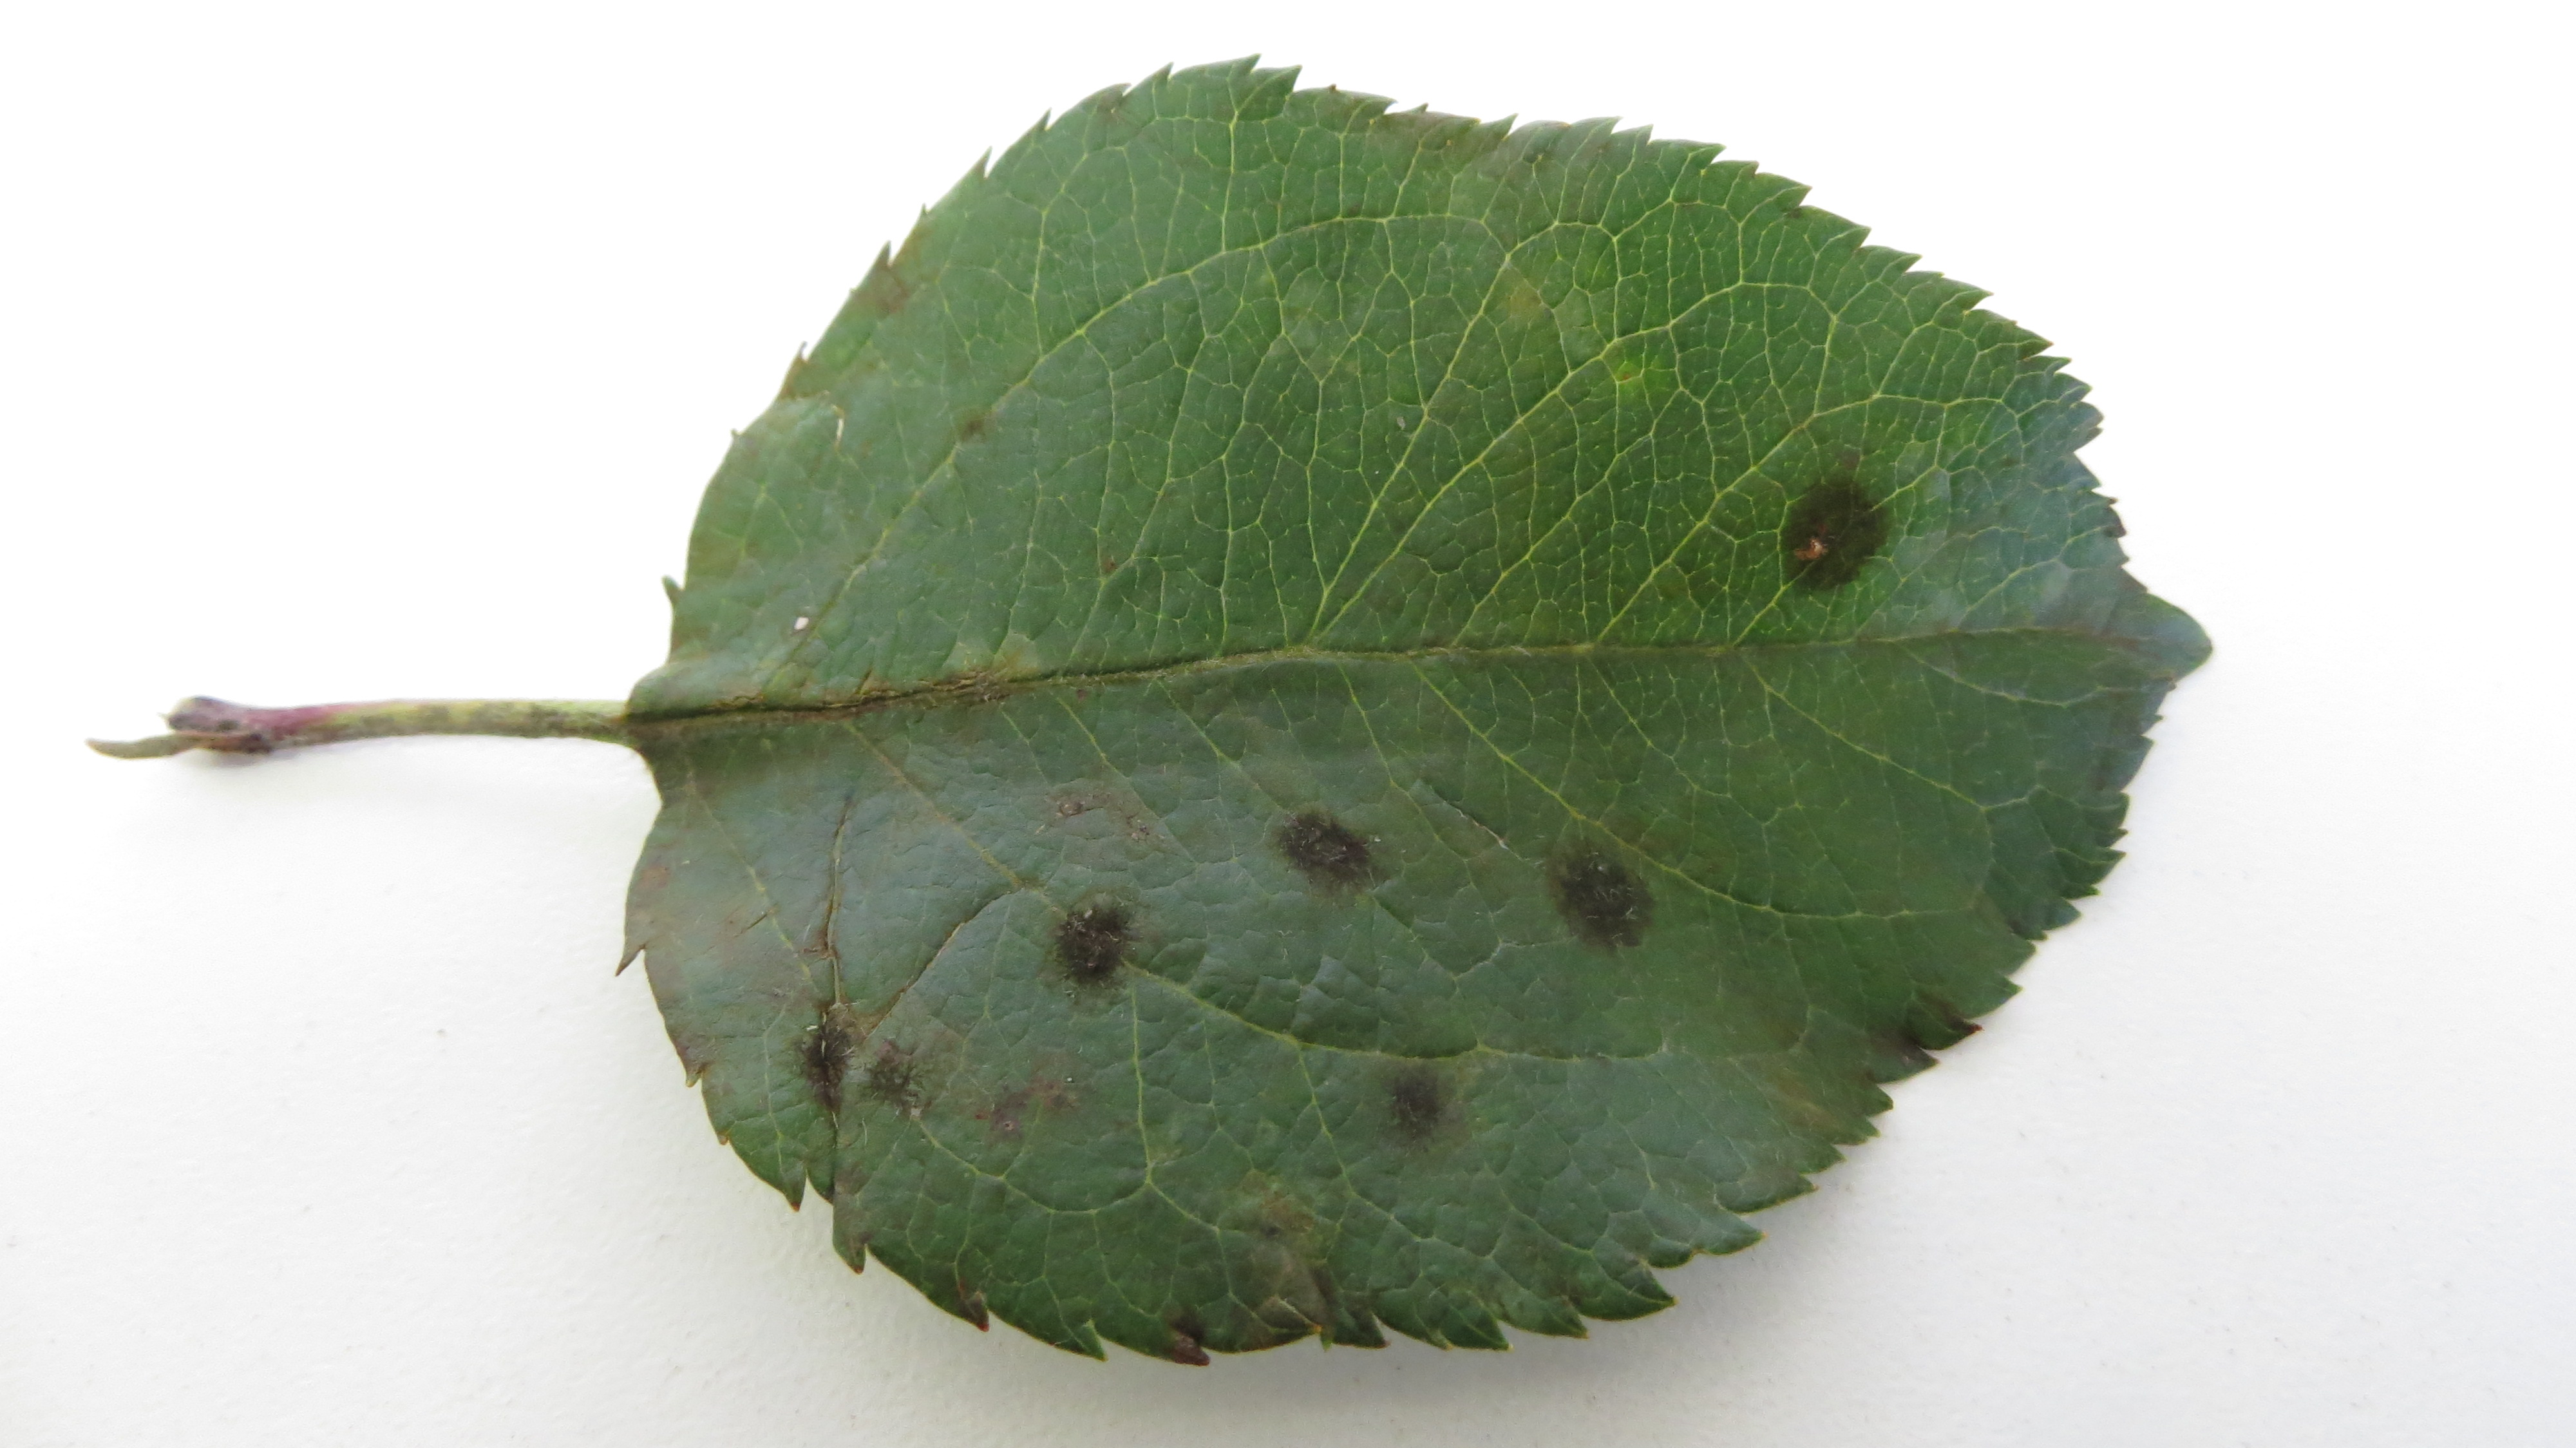sarna: (1764, 476, 1902, 600), (1221, 1163, 1325, 1319), (1541, 825, 1654, 958), (1265, 788, 1392, 899), (1357, 1043, 1474, 1163), (1056, 768, 1178, 860), (1042, 887, 1148, 991), (646, 689, 791, 765), (780, 974, 856, 1112), (1488, 106, 1603, 196), (1357, 92, 1479, 177), (853, 1014, 936, 1138), (800, 660, 929, 740), (1491, 253, 1591, 345), (945, 646, 1047, 735), (1877, 984, 1969, 1074), (853, 232, 925, 338), (939, 391, 1014, 476), (1023, 1036, 1086, 1124), (975, 1069, 1035, 1161), (1143, 1294, 1215, 1365)
